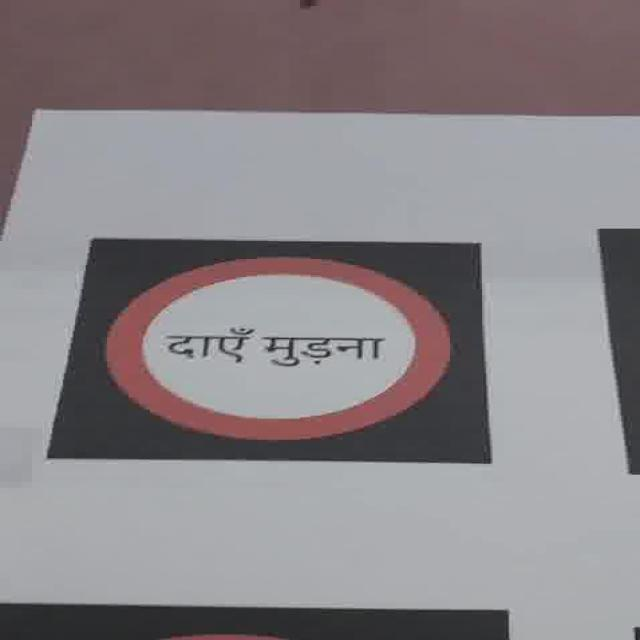hindiright: (46, 236, 492, 463), (0, 601, 511, 639), (161, 325, 387, 368), (83, 630, 351, 639)
